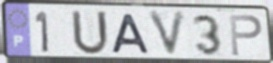1: (33, 11, 51, 55)
3: (191, 13, 224, 57)
A: (110, 12, 152, 55)
P: (228, 13, 265, 58)
U: (70, 9, 111, 58)
V: (146, 10, 189, 60)
